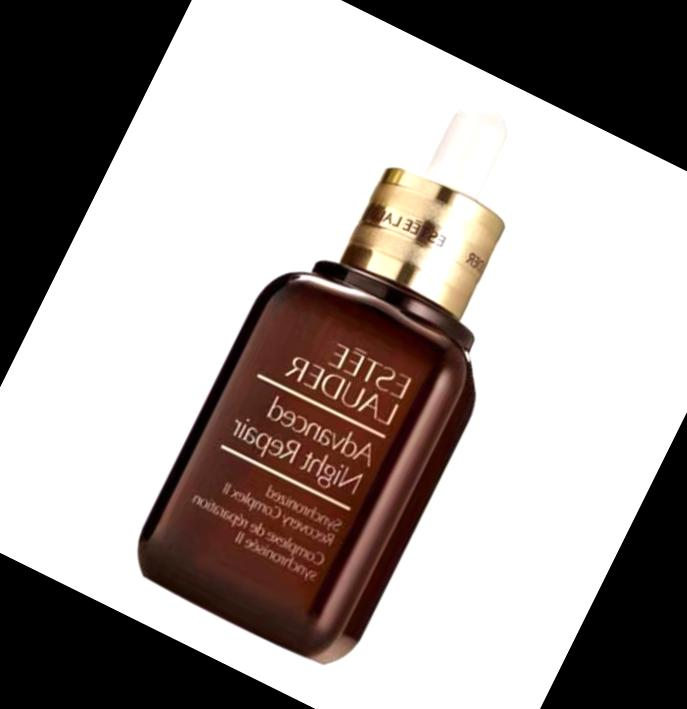cosmetic: (125, 41, 591, 664)
